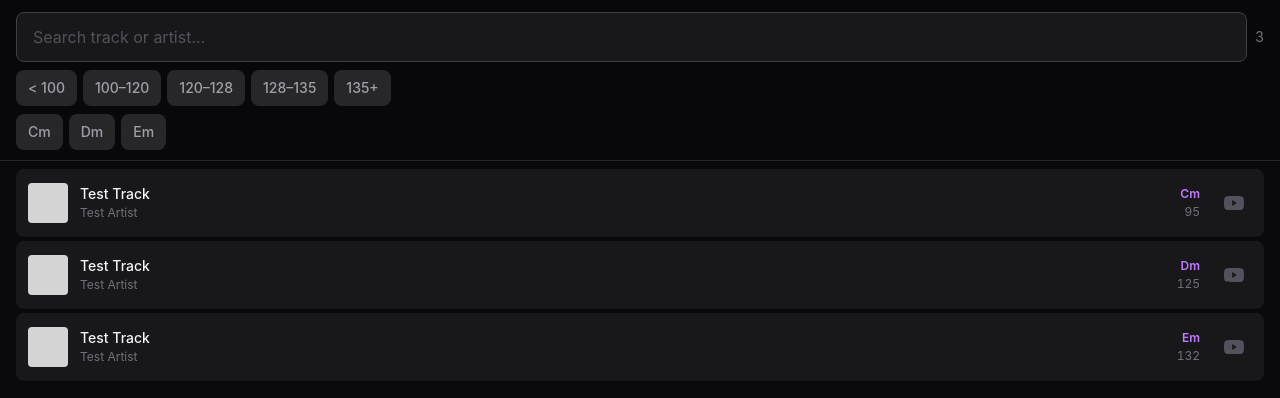
Test: App — BPM filter › preset button filters tracks by BPM range
What coordinates should you click on to do the following:
click the button "120–128"
I would click on:
 (206, 88)
Its box is [167,70,245,106].
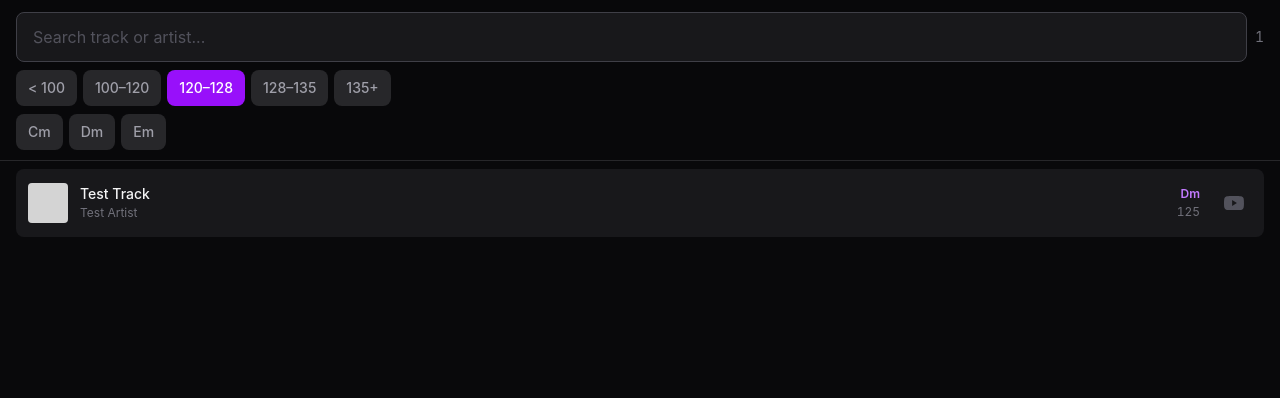
Expected: the number of "TrackCard" components is 1, [16,169,1264,237]
